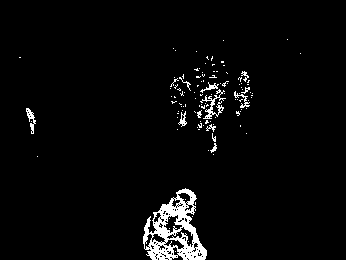person: (143, 186, 207, 260), (201, 77, 223, 154)
